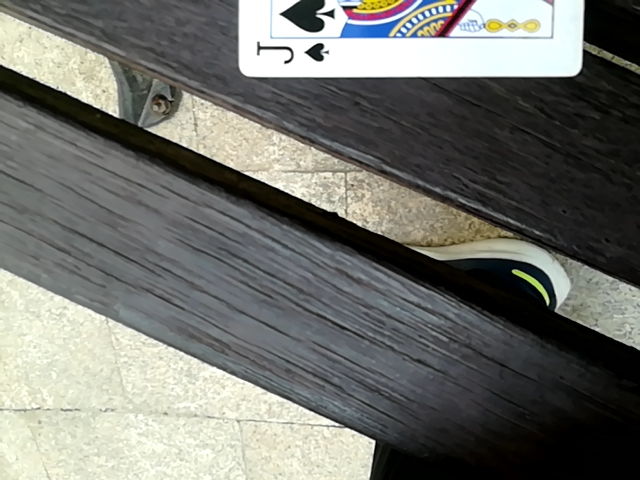ht j: (230, 0, 587, 82)
